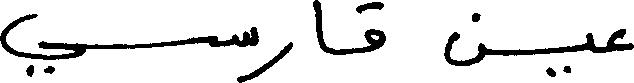X: (0, 9, 82, 81), (444, 8, 483, 70), (258, 31, 292, 80), (233, 22, 256, 82), (366, 0, 383, 56), (609, 24, 633, 56), (315, 0, 326, 57), (587, 28, 594, 57)
